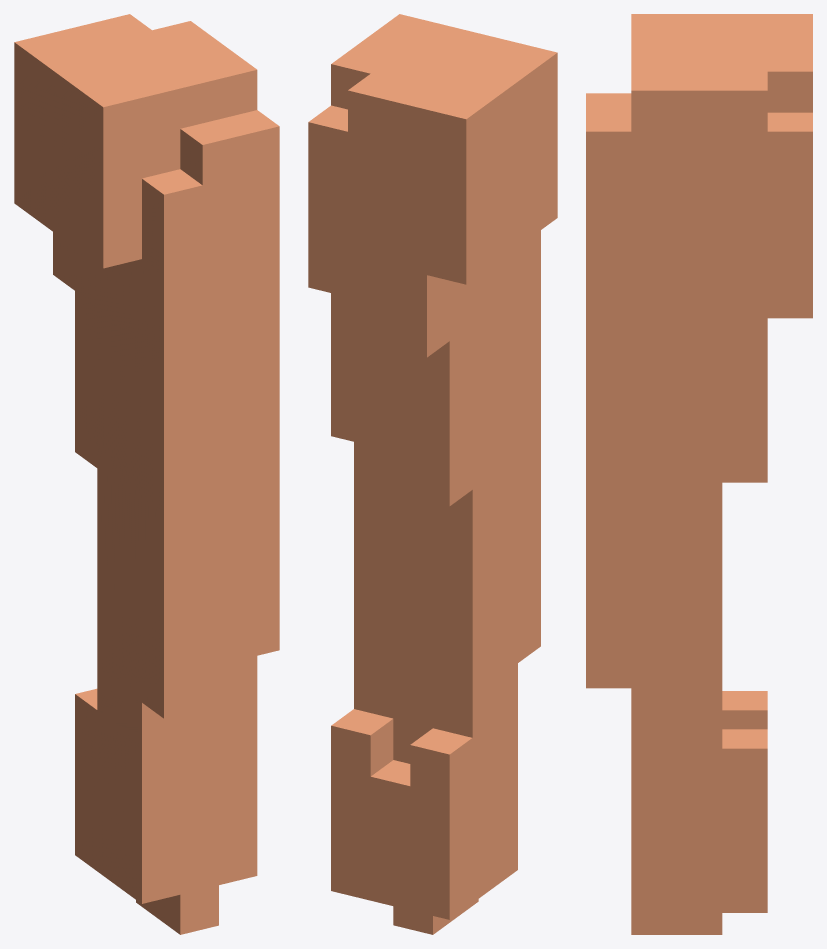
Rendered from NB_TR_F_thigh_l.fbx.
The picture shows the model from 3 angles, left to right: view 1: azimuth 30°, elevation 25°; view 2: azimuth 150°, elevation 25°; view 3: azimuth 270°, elevation 25°; orthographic projection. The views are drawn at different scales.
Visible parts, largest first — view 1: thigh_l; view 2: thigh_l; view 3: thigh_l.
Boxes of the visible parts, box(x1,y1,x2,y2) form: thigh_l: box(14, 14, 279, 934); thigh_l: box(308, 14, 557, 934); thigh_l: box(586, 14, 812, 934).
Size of the model in its own units: 4 by 21 by 5.
1 material, 1 textured.
